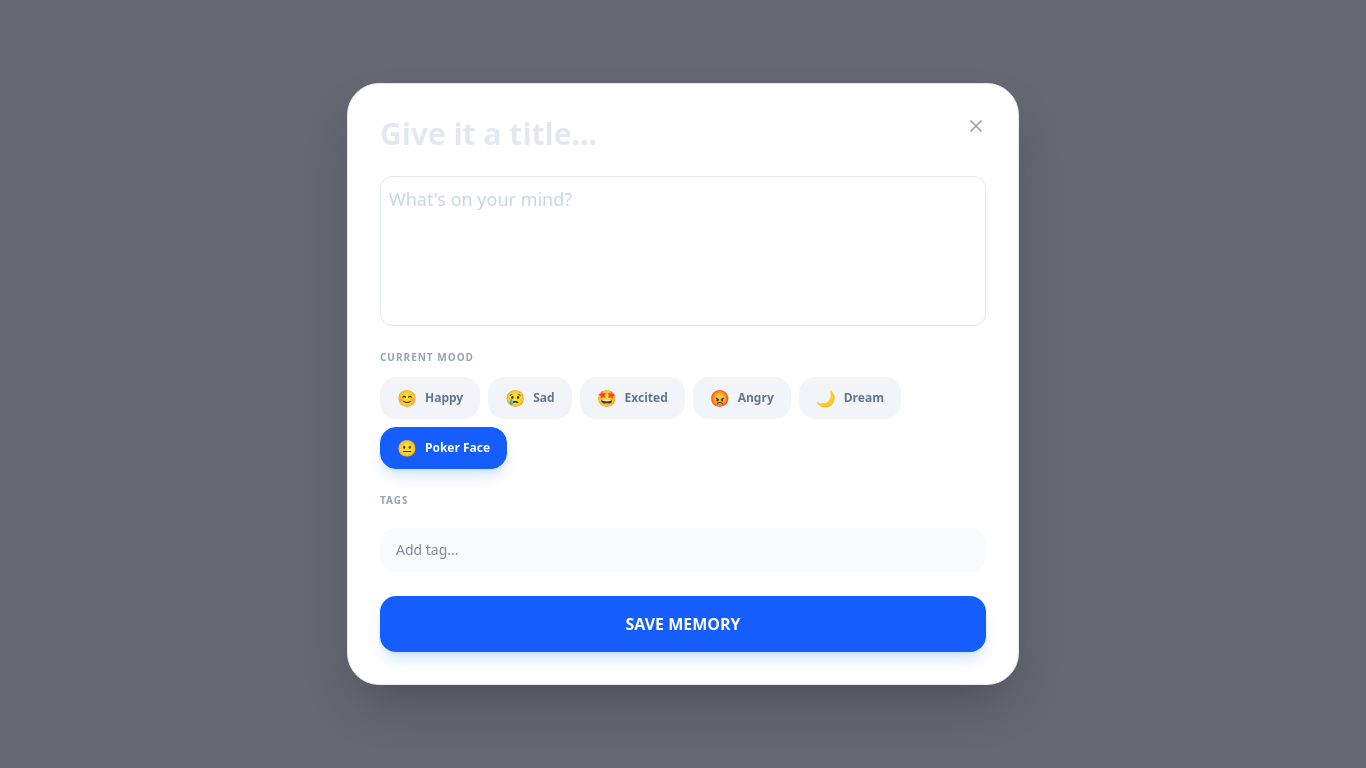
Scenario: EntryModal Component Integration Suite › Tag Token Interaction Management › should append tags dynamically when typing values and pressing Enter key configurations
Type "personal-dev" into the field with placeholder "Add tag...". click: (683, 550)
box: top-left (380, 528), bottom-right (986, 572)
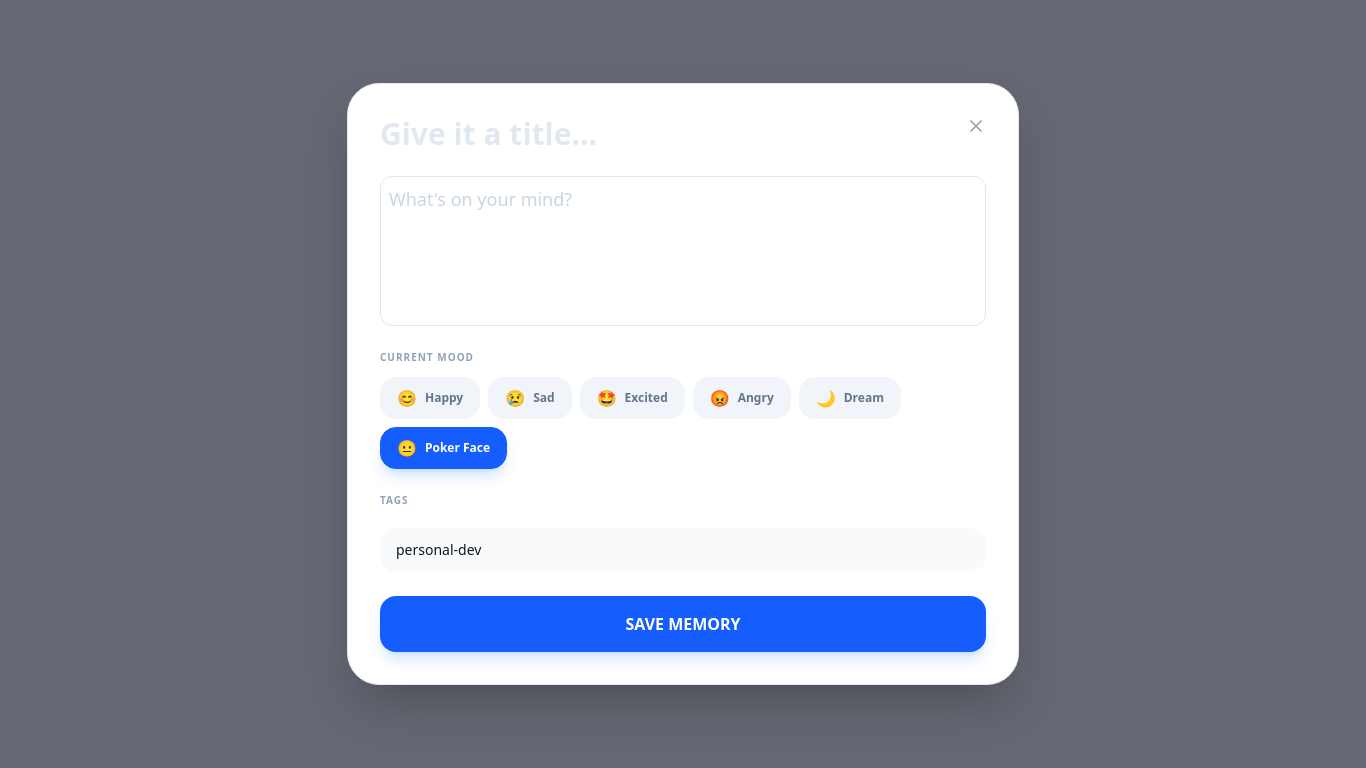
Press Enter in the field with placeholder "Add tag...", box top-left (380, 528), bottom-right (986, 572)
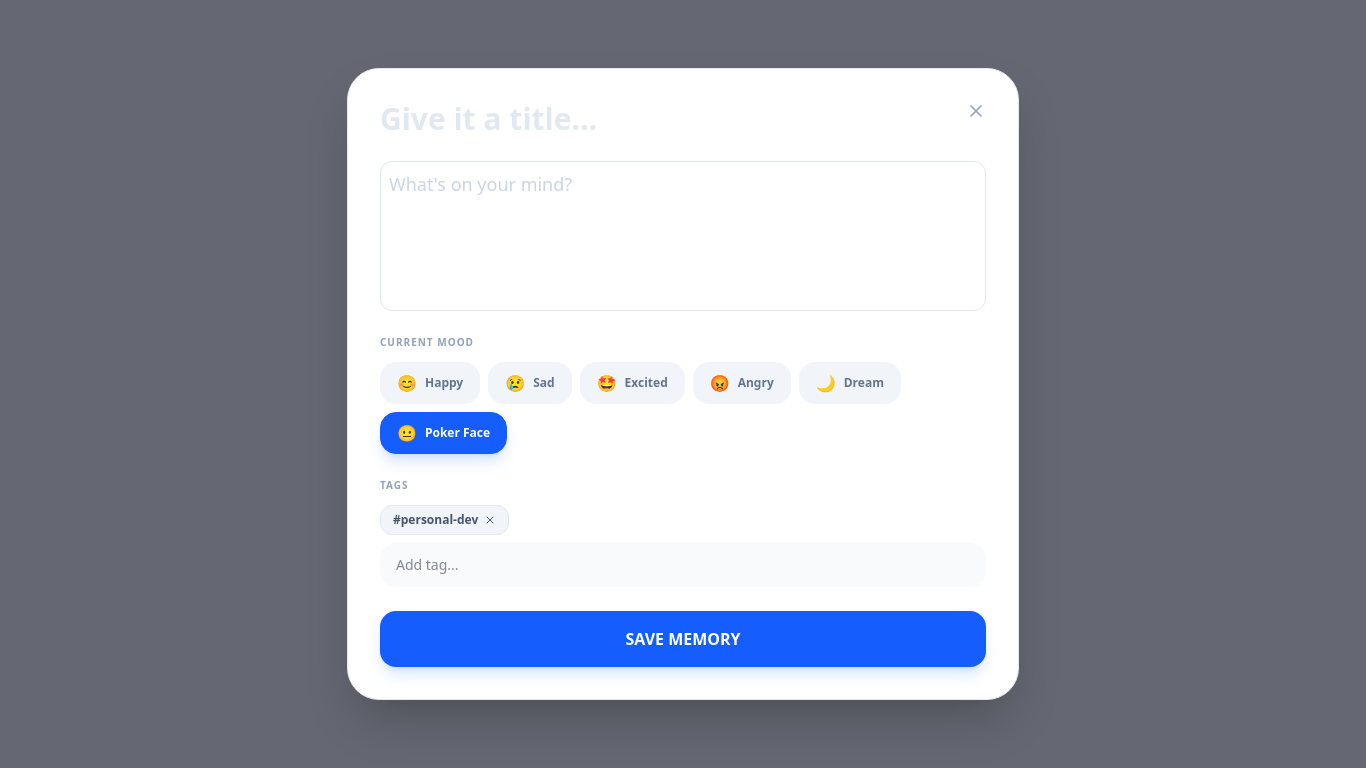
Now the text "#personal-dev" is shown, box top-left (380, 505), bottom-right (509, 535)
